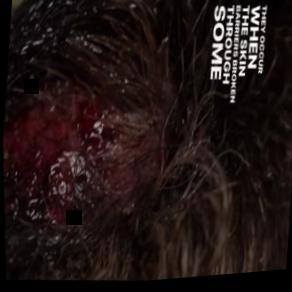skin_lesions: (2, 69, 167, 251)
